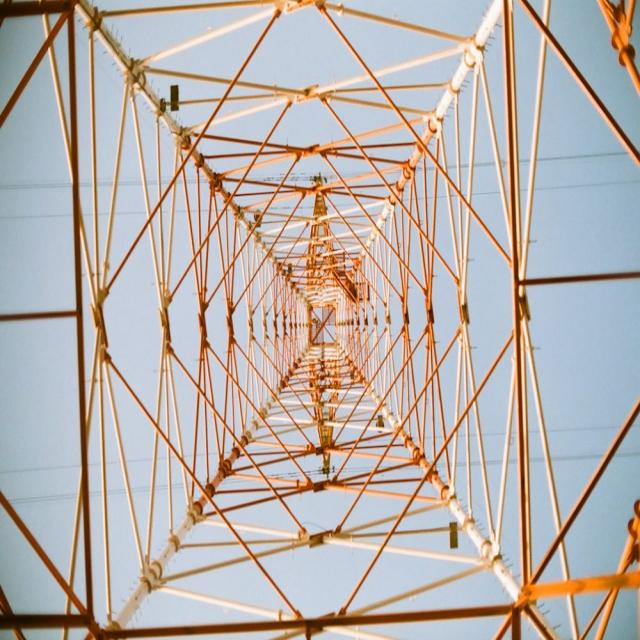transmission tower: (19, 32, 638, 614)
